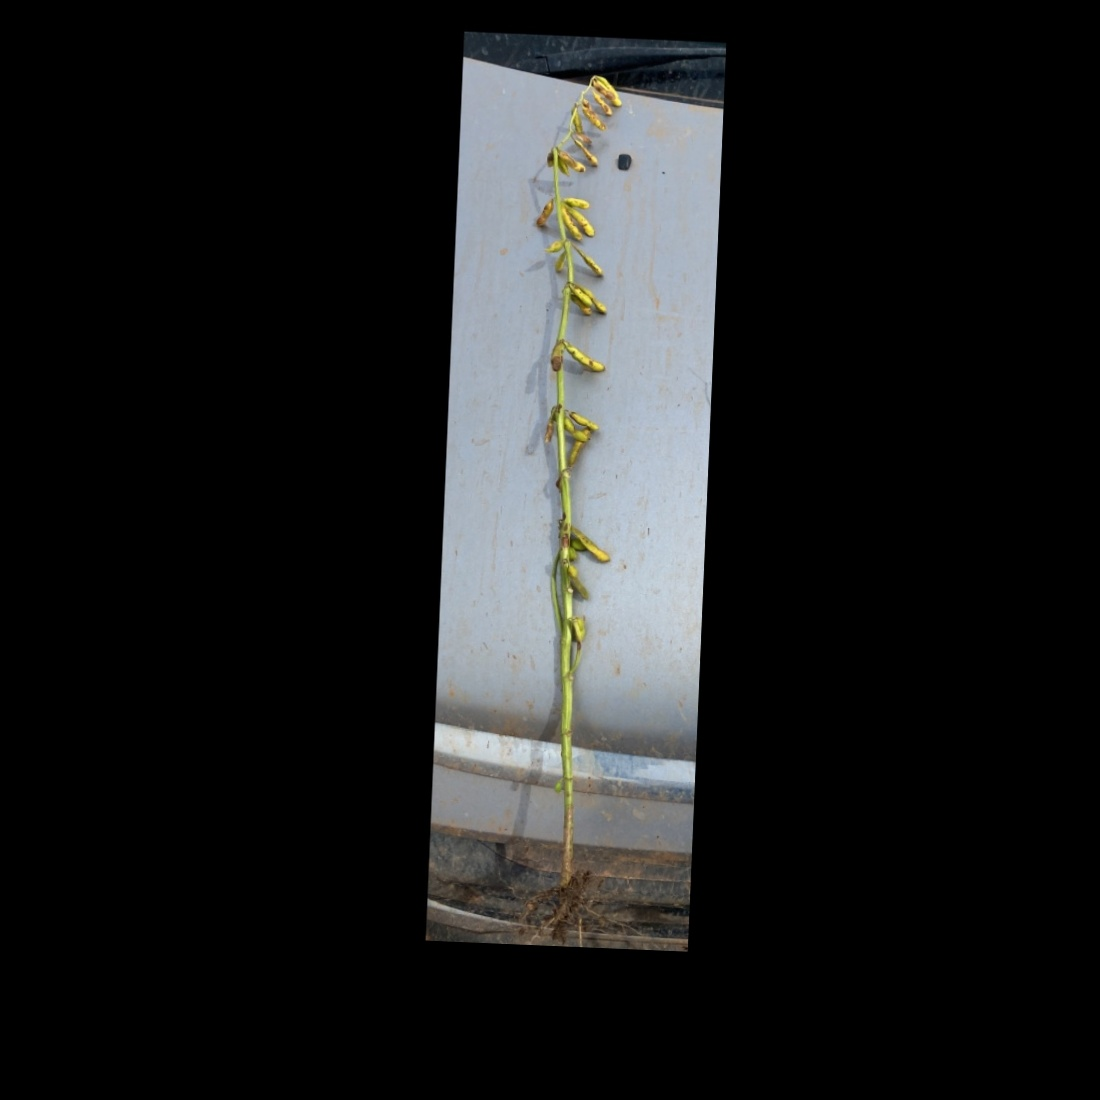pod: (560, 340, 610, 376), (565, 284, 614, 318), (570, 244, 612, 279), (555, 205, 587, 246), (566, 201, 598, 239), (568, 137, 600, 169), (553, 147, 587, 174), (588, 90, 617, 120), (532, 195, 556, 229), (566, 285, 597, 309), (570, 106, 588, 141), (561, 194, 596, 208), (550, 250, 568, 275)
soy: (486, 59, 647, 950)
